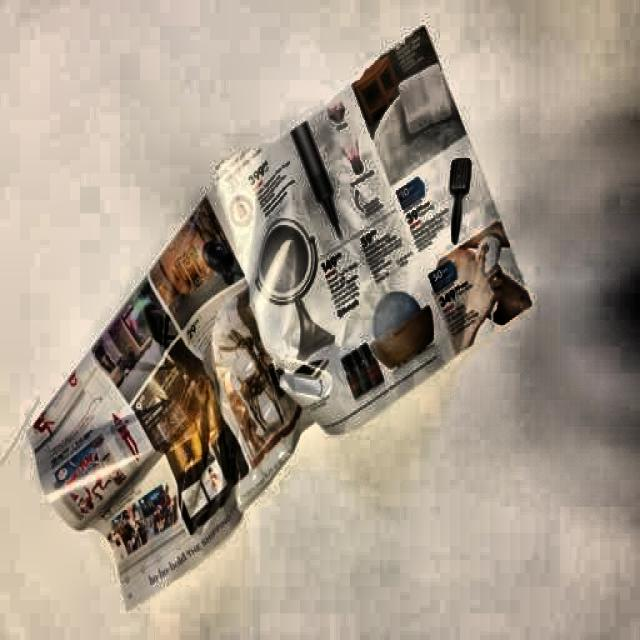paper: (22, 17, 538, 598)
